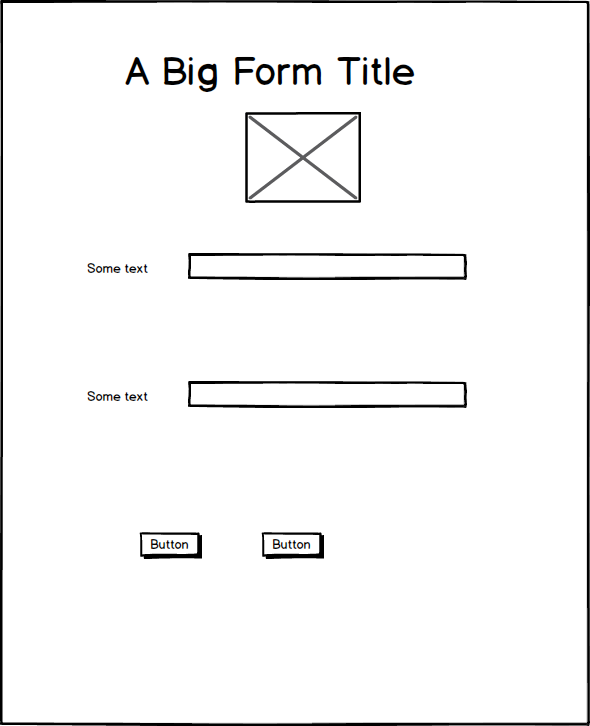button: (257, 526, 336, 570), (137, 526, 209, 562)
h1: (114, 47, 418, 96)
image: (239, 109, 367, 209)
input: (177, 248, 483, 287), (183, 377, 475, 412)
label: (78, 386, 160, 410), (81, 257, 151, 277)
